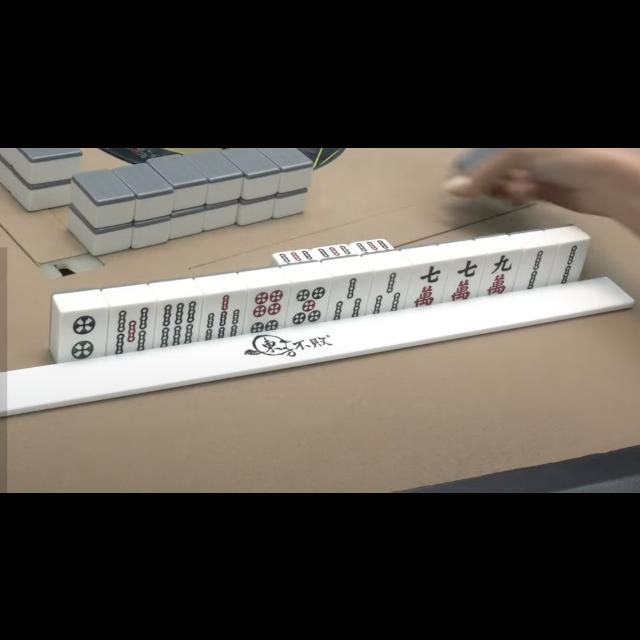b2: (552, 242, 586, 284), (518, 248, 552, 288)
b3: (329, 276, 367, 318), (369, 270, 406, 312)
b5: (108, 304, 154, 352)
b6: (156, 299, 200, 345)
b7: (202, 292, 244, 338)
c7: (408, 262, 446, 308), (446, 258, 482, 302)
c9: (483, 252, 519, 296)
d2: (60, 311, 106, 359)
d5: (288, 281, 328, 323)
d6: (247, 287, 287, 333)
